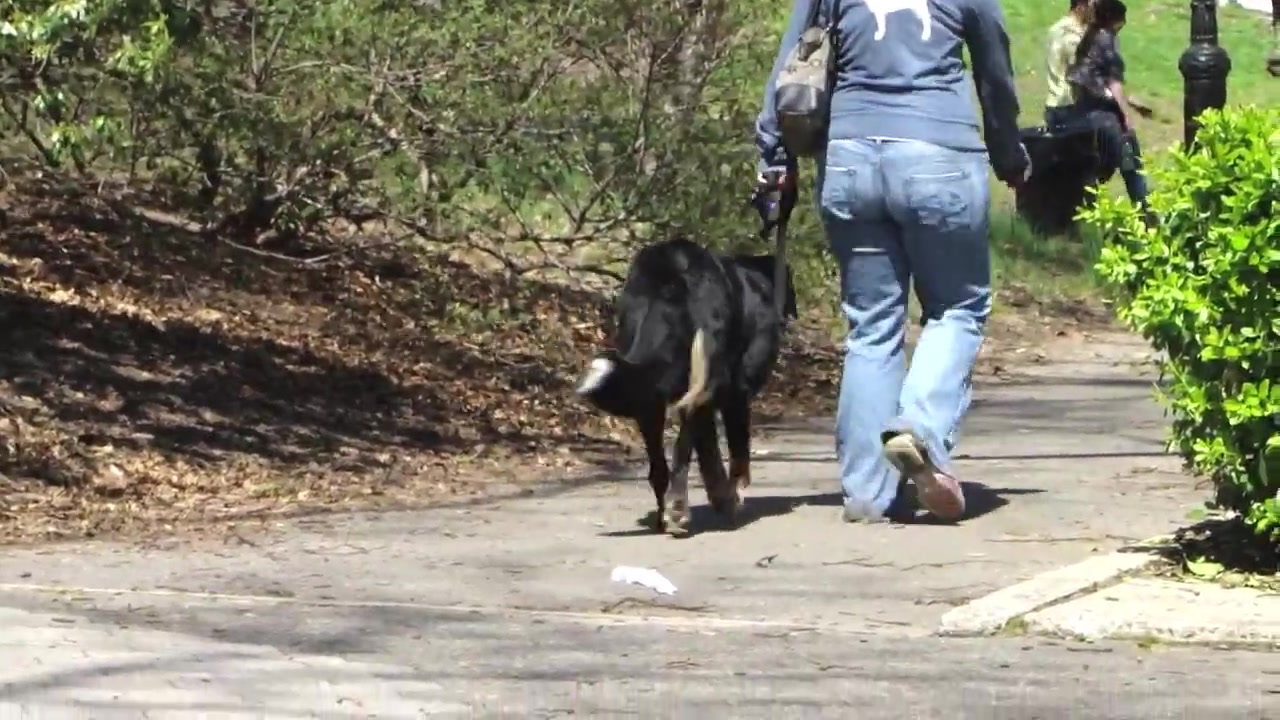dog: (576, 238, 802, 537)
